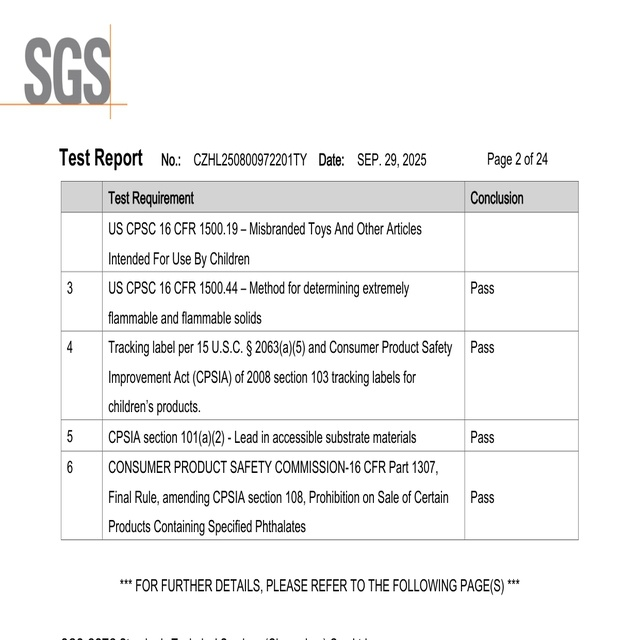sgs: (25, 37, 112, 105)
